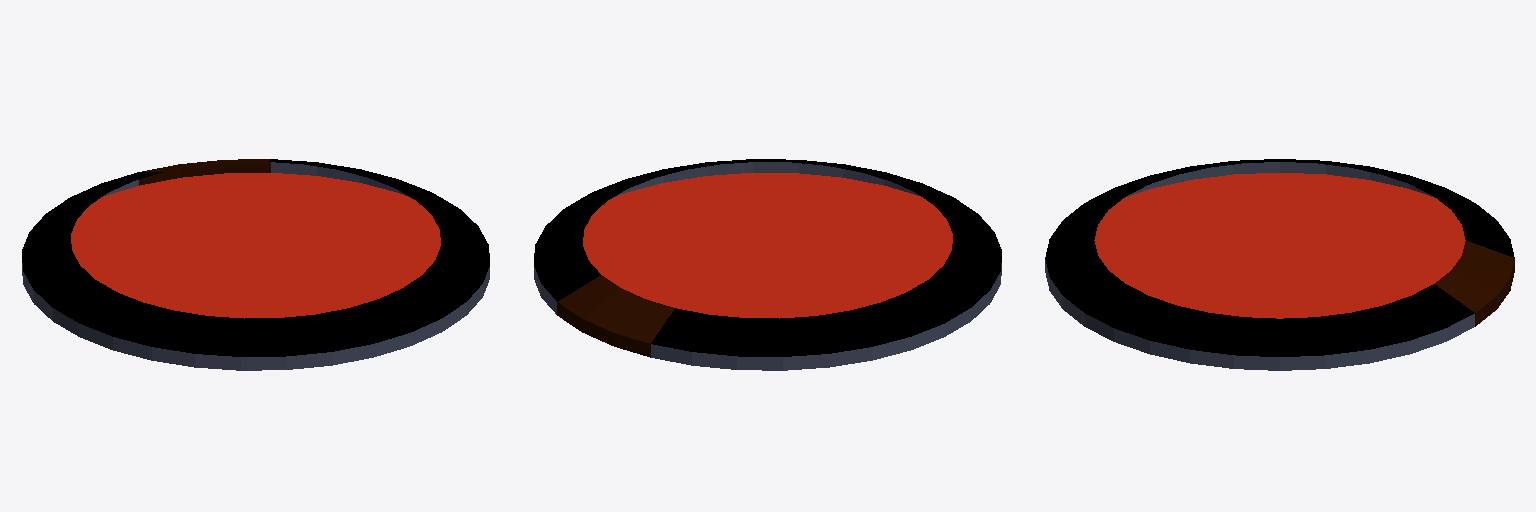
File: circular_button_base.obj
3 views of the same model, side by side, from view 1: azimuth 30°, elevation 25°; view 2: azimuth 150°, elevation 25°; view 3: azimuth 270°, elevation 25° (orthographic).
Parts seen in each view (by area): view 1: circular_button_base_disconnect_button.002; view 2: circular_button_base_disconnect_button.002; view 3: circular_button_base_disconnect_button.002.
Boxes of the visible parts, x1,y1,x2,y2 form: circular_button_base_disconnect_button.002: [22, 159, 489, 370]; circular_button_base_disconnect_button.002: [534, 159, 1001, 370]; circular_button_base_disconnect_button.002: [1045, 159, 1514, 370].
Size of the model in its own units: 0.0208 by 0.0015 by 0.0208.